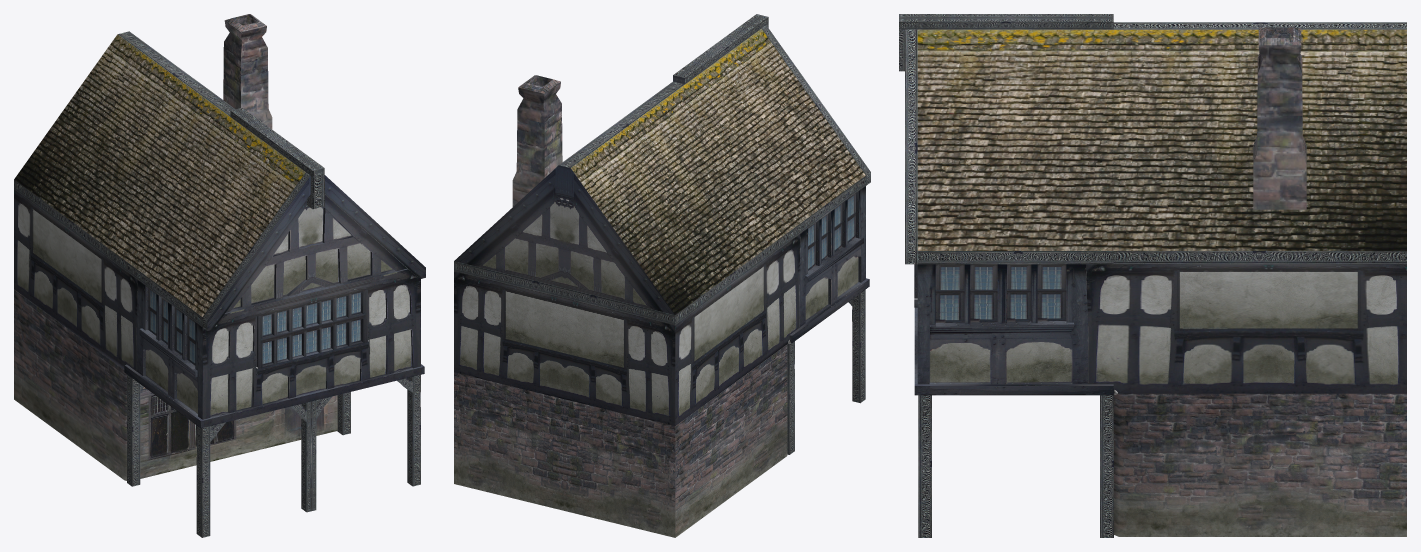
Rendered from medhouse3.fbx.
3 renders of one model, left to right at view 1: azimuth 30°, elevation 25°; view 2: azimuth 150°, elevation 25°; view 3: azimuth 270°, elevation 25°, orthographic. The views are drawn at different scales.
Visible parts, largest first — view 1: medhouse3; view 2: medhouse3; view 3: medhouse3.
Part boxes in pixels (box(x1,y1,x2,y2)): medhouse3: box(14, 14, 425, 537); medhouse3: box(454, 14, 870, 537); medhouse3: box(899, 14, 1406, 537).
Bounding box in the file's own units: 553 × 877 × 836.
